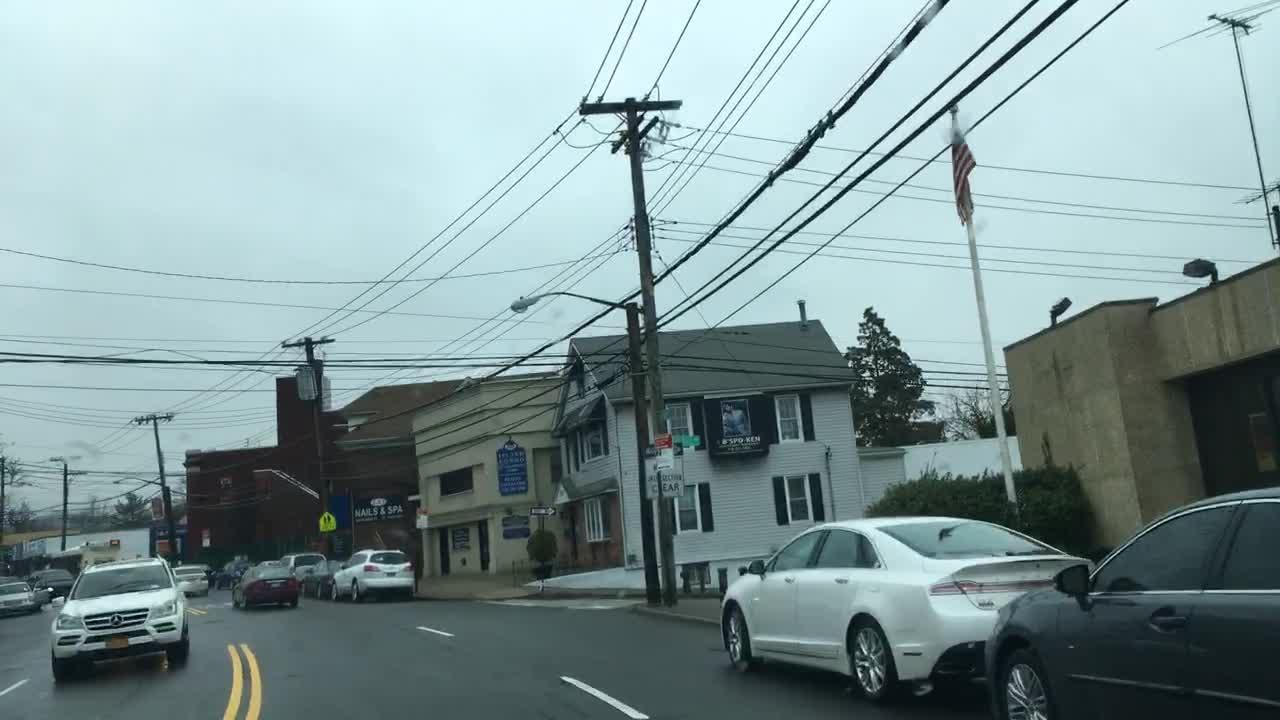Mercedes: (105, 610, 126, 628)
